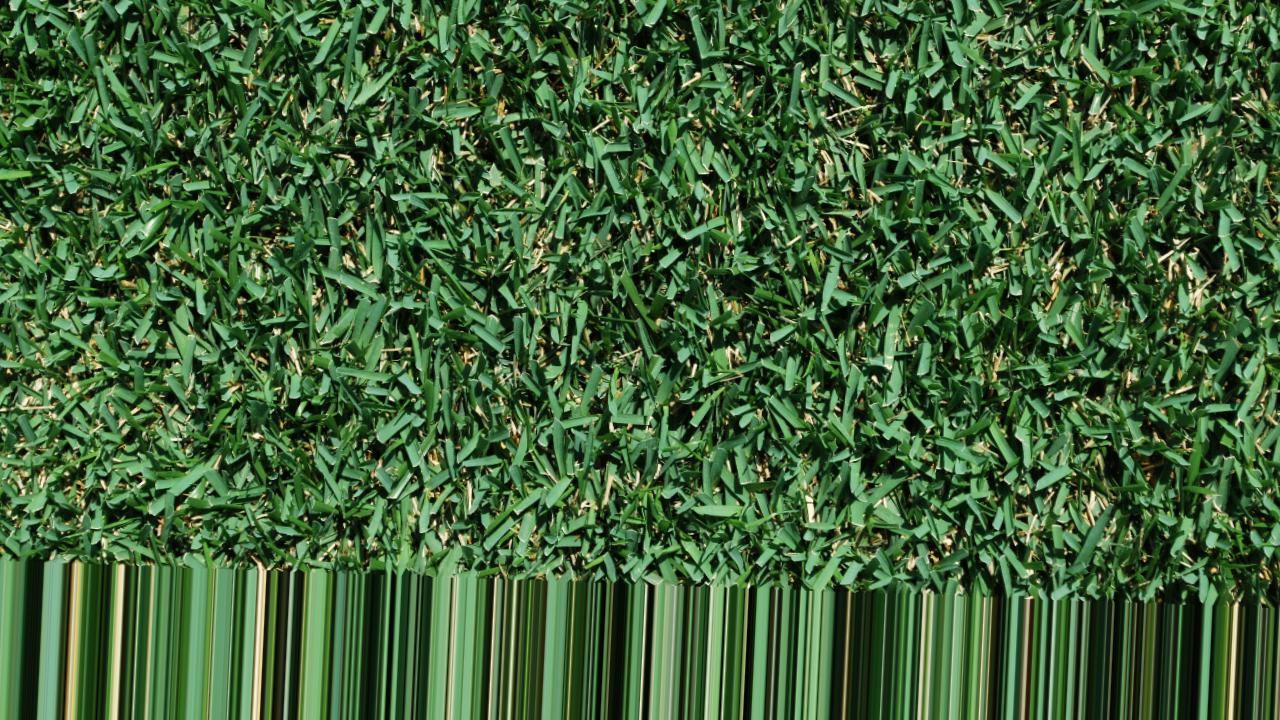patch: (893, 150, 1163, 328), (143, 259, 339, 437), (775, 408, 973, 522), (483, 200, 647, 313)
